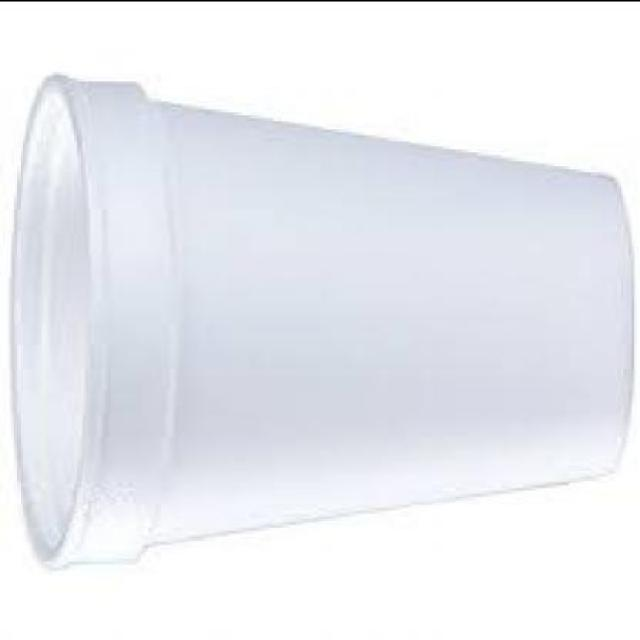PAPER: (9, 74, 637, 575)
